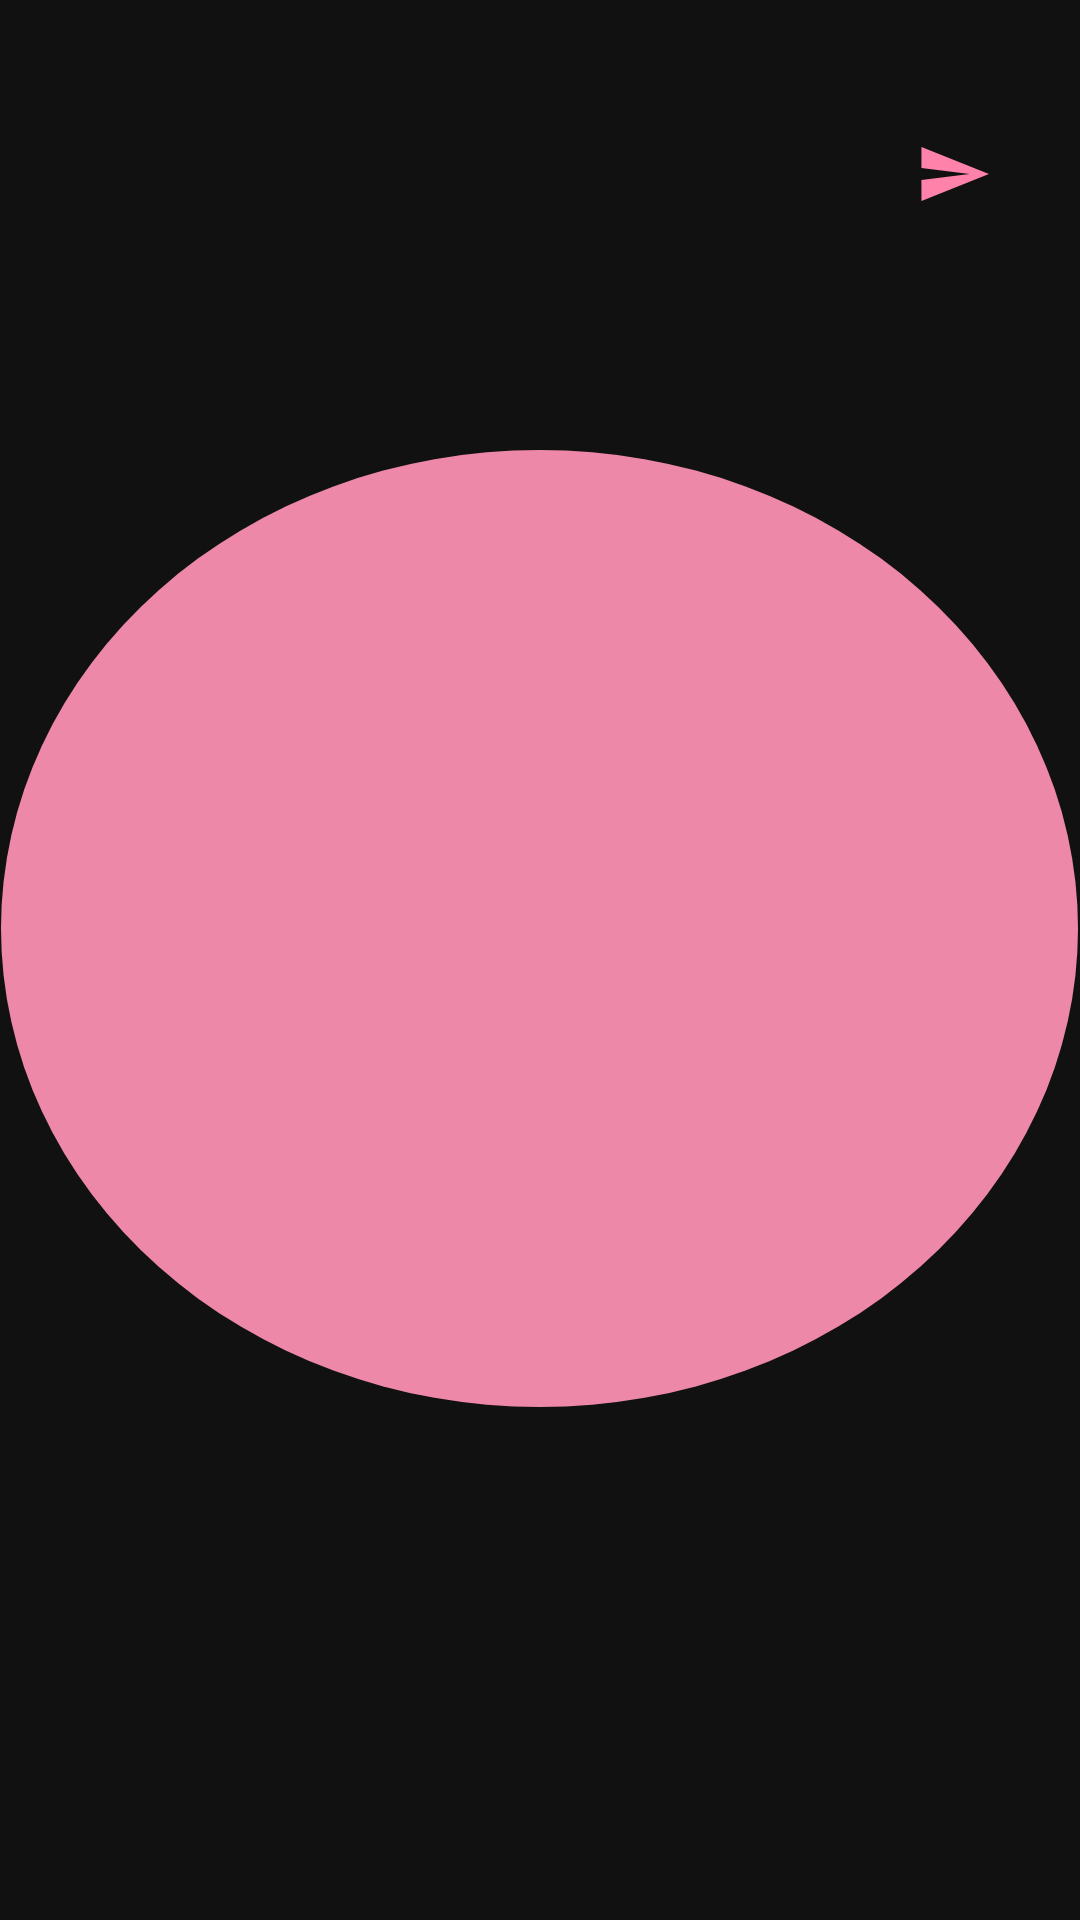

Point at icon controls on the screen. Image size 1080w x 1920h, points as point (x, y).
send: point (955, 174)
